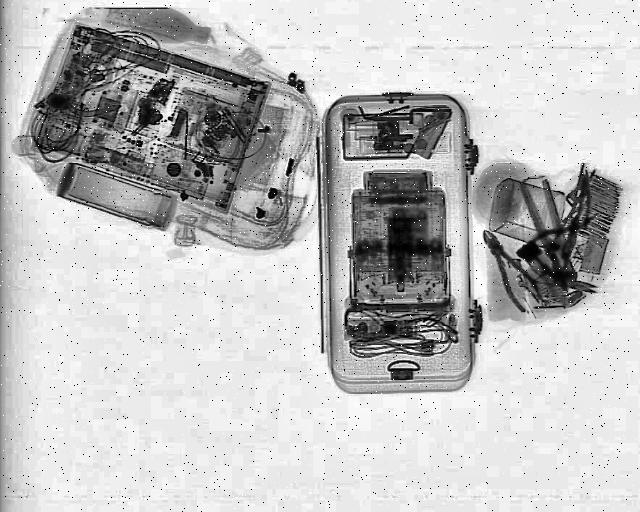Pliers: (468, 226, 550, 316)
